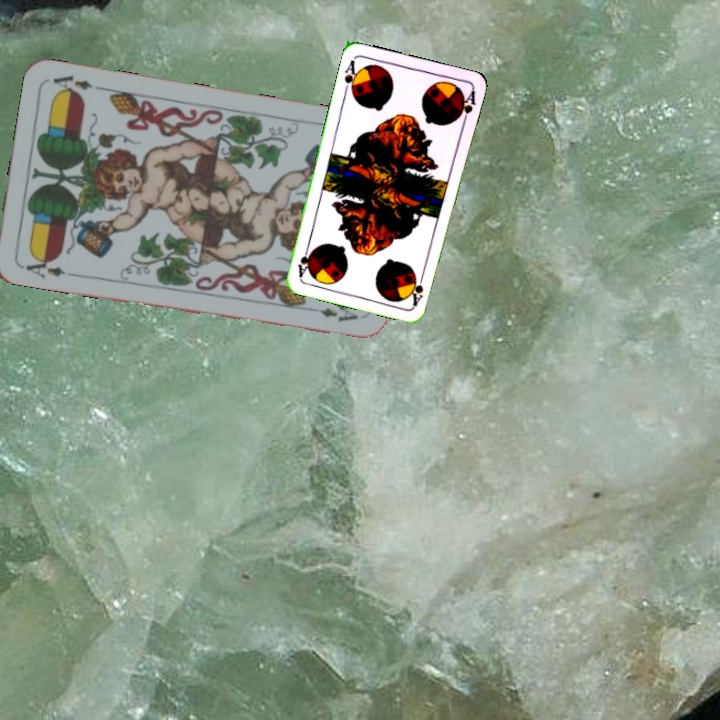EA: (17, 251, 68, 281)
SA: (340, 56, 362, 97), (408, 268, 427, 308)
